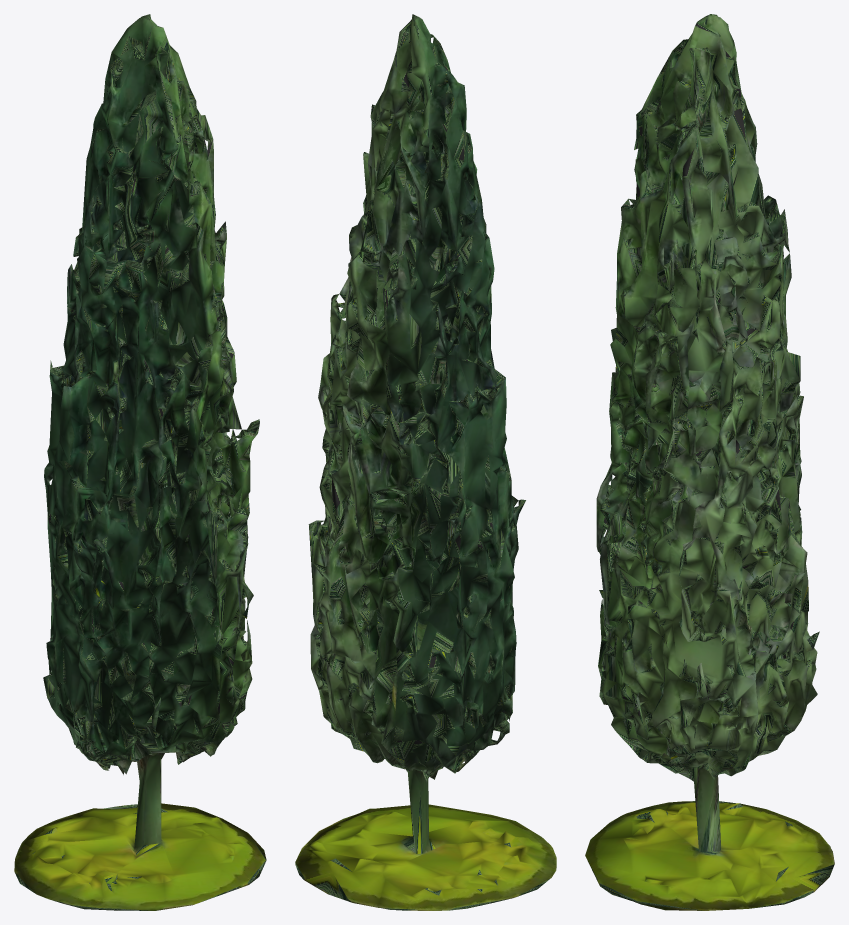
Rendered from lib_tp_topiary.near.glb.
3 views of the same model, side by side, from view 1: azimuth 30°, elevation 25°; view 2: azimuth 150°, elevation 25°; view 3: azimuth 270°, elevation 25° (orthographic).
Size of the model in its own units: 0.5522 by 2 by 0.5293.
1 material, 1 textured.
